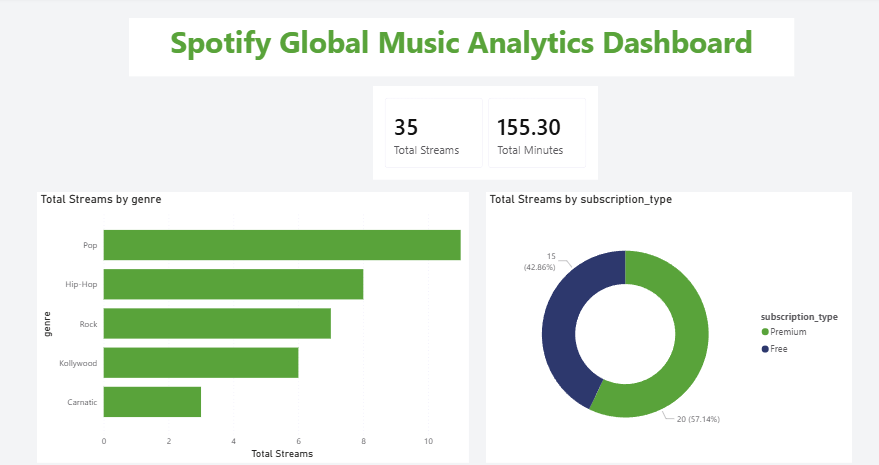

The dashboard page shown, as its layout file describes it:
{"tool":"powerbi","page":{"name":"Page 1","canvas":[1280,720],"ordinal":0},"visuals":[{"type":"cardVisual","fields":{"Data":["spotifydb listening_history.Total Streams","spotifydb listening_history.Total Minutes"]},"box":[541.4,128.2,324,135.4],"z":0},{"type":"clusteredBarChart","fields":{"Category":["spotifydb tracks.genre"],"Y":["spotifydb listening_history.Total Streams"]},"box":[57.6,280.8,622.1,390.2],"z":1},{"type":"donutChart","fields":{"Category":["spotifydb users.subscription_type"],"Y":["spotifydb listening_history.Total Streams"]},"box":[704.2,280.8,527,390.2],"z":2},{"type":"textbox","box":[190.1,30.2,957.6,83.5],"z":3}]}

Visuals, with their boxes on the page's 1280x720 design canvas (x1, y1, x2, y2). These are canvas units, not pixel positions in the 879x465 screenshot, which may show the page scaled, cropped or inside an application window:
cardVisual - spotifydb listening_history.Total Streams x spotifydb listening_history.Total Minutes: [541, 128, 865, 264]
clusteredBarChart - spotifydb tracks.genre x spotifydb listening_history.Total Streams: [58, 281, 680, 671]
donutChart - spotifydb users.subscription_type x spotifydb listening_history.Total Streams: [704, 281, 1231, 671]
textbox: [190, 30, 1148, 114]
